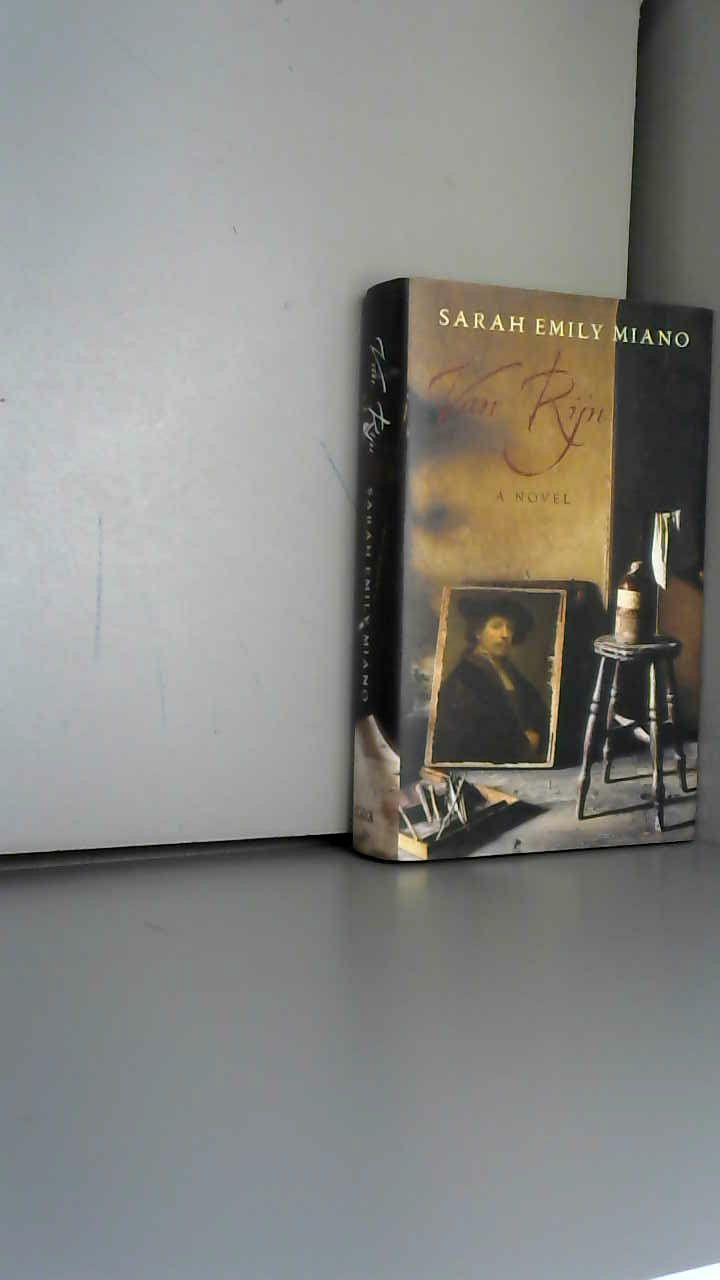book: (320, 250, 718, 906)
